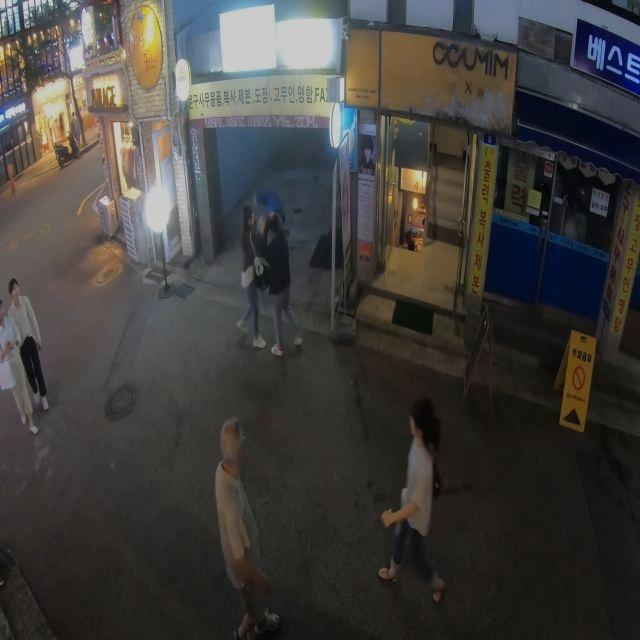fight: (236, 206, 300, 356)
non-fight: (368, 397, 448, 594), (211, 410, 276, 639), (4, 276, 51, 420)
